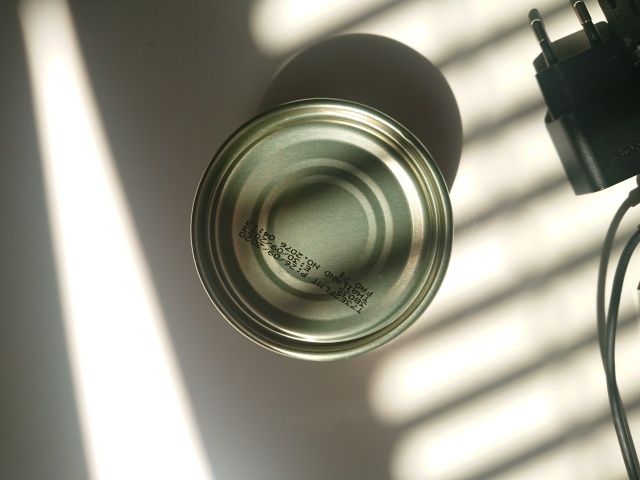Giana Tuna Salad Mexico 185g: (187, 95, 458, 365)
